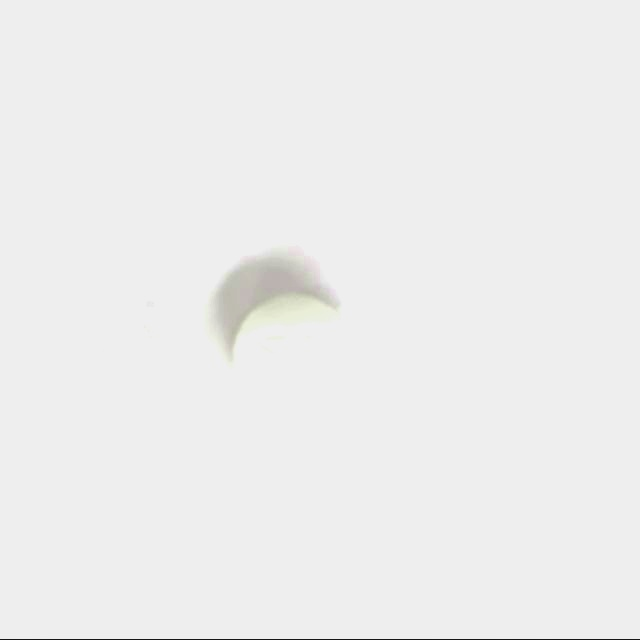pill: (230, 288, 355, 419)
